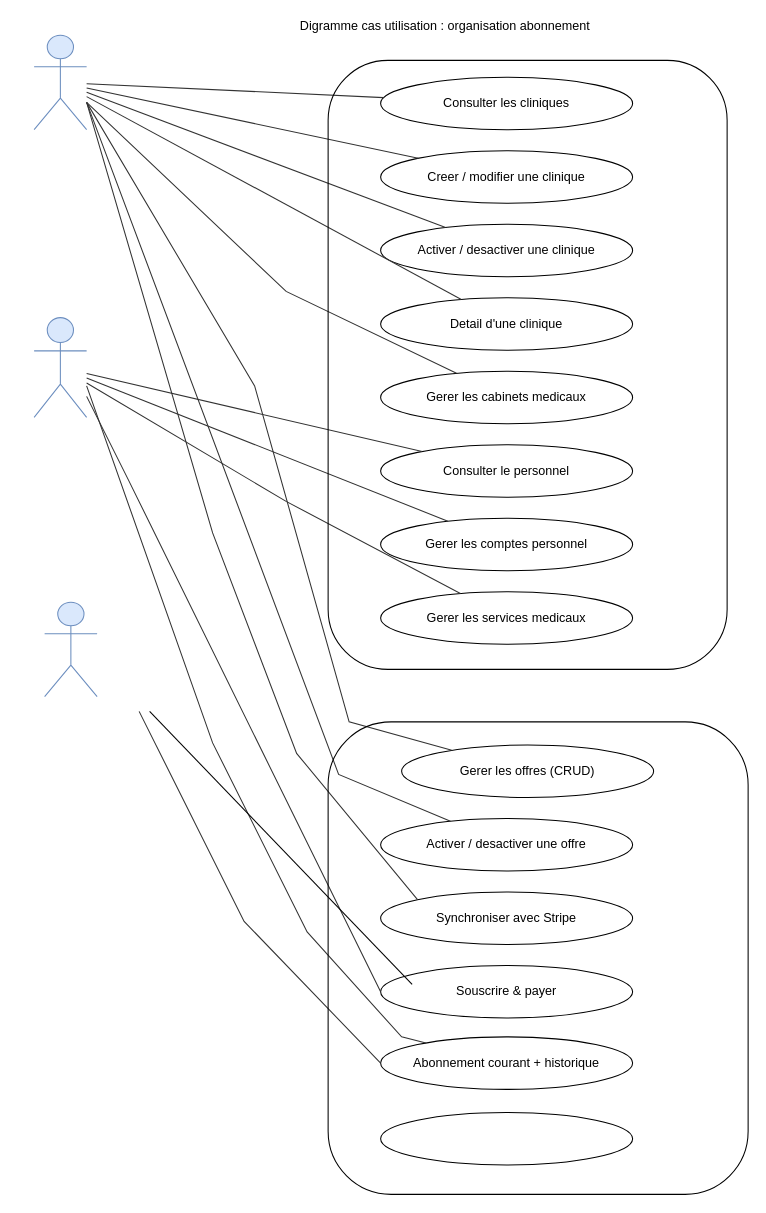
This 766x1213 diagram has some shape labels left out. The centre of each missing label's shape, as x and y in pixels:
"Administrateur clinique" goes at pixel 60 367.
"Medecin (cabinet)" goes at pixel 70 649.
"Super administrateur" goes at pixel 60 82.
"Traiter les webhooks Stripe" goes at pixel 506 1138.
